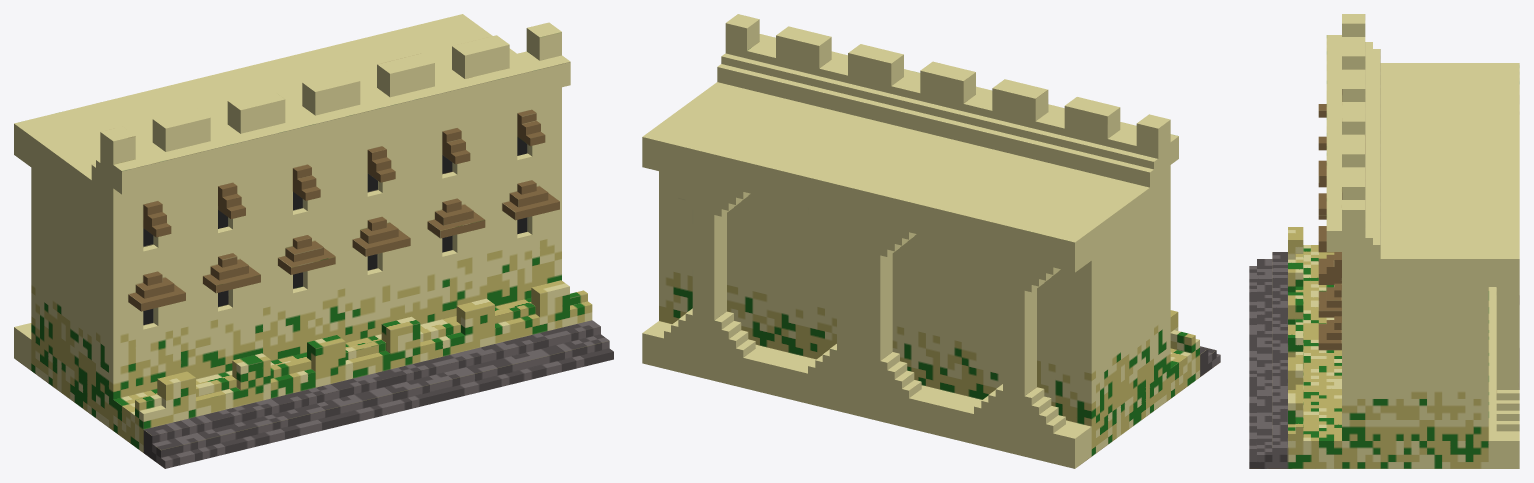
The model's file is Wall_Simple_Windows.glb.
3 views of the same model, side by side, from view 1: azimuth 30°, elevation 25°; view 2: azimuth 150°, elevation 25°; view 3: azimuth 270°, elevation 25° (orthographic). The views are drawn at different scales.
Parts seen in each view (by area): view 1: Wall_Simple_Windows; view 2: Wall_Simple_Windows; view 3: Wall_Simple_Windows.
Part boxes in pixels (left/top/right/bottom): Wall_Simple_Windows: left=14, top=14, right=613, bottom=468; Wall_Simple_Windows: left=642, top=14, right=1220, bottom=468; Wall_Simple_Windows: left=1249, top=14, right=1519, bottom=468.
Size of the model in its own units: 6 by 3.7 by 3.5.
1 material, 1 textured.
